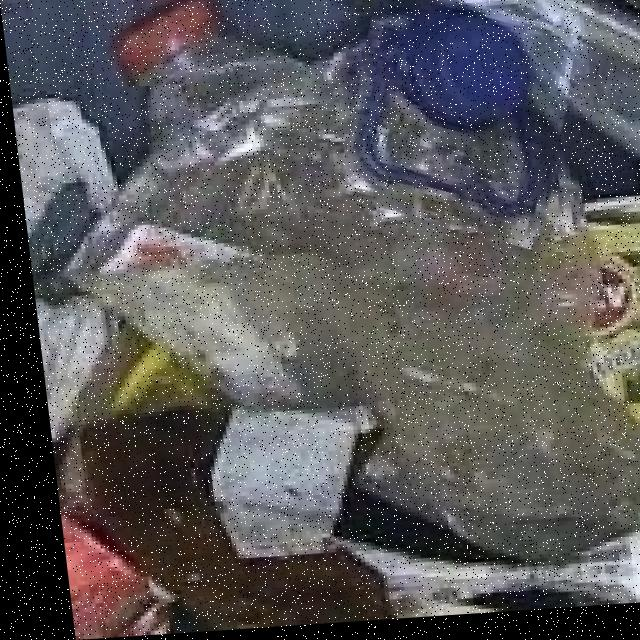litter: (325, 0, 581, 254), (96, 0, 237, 90)
